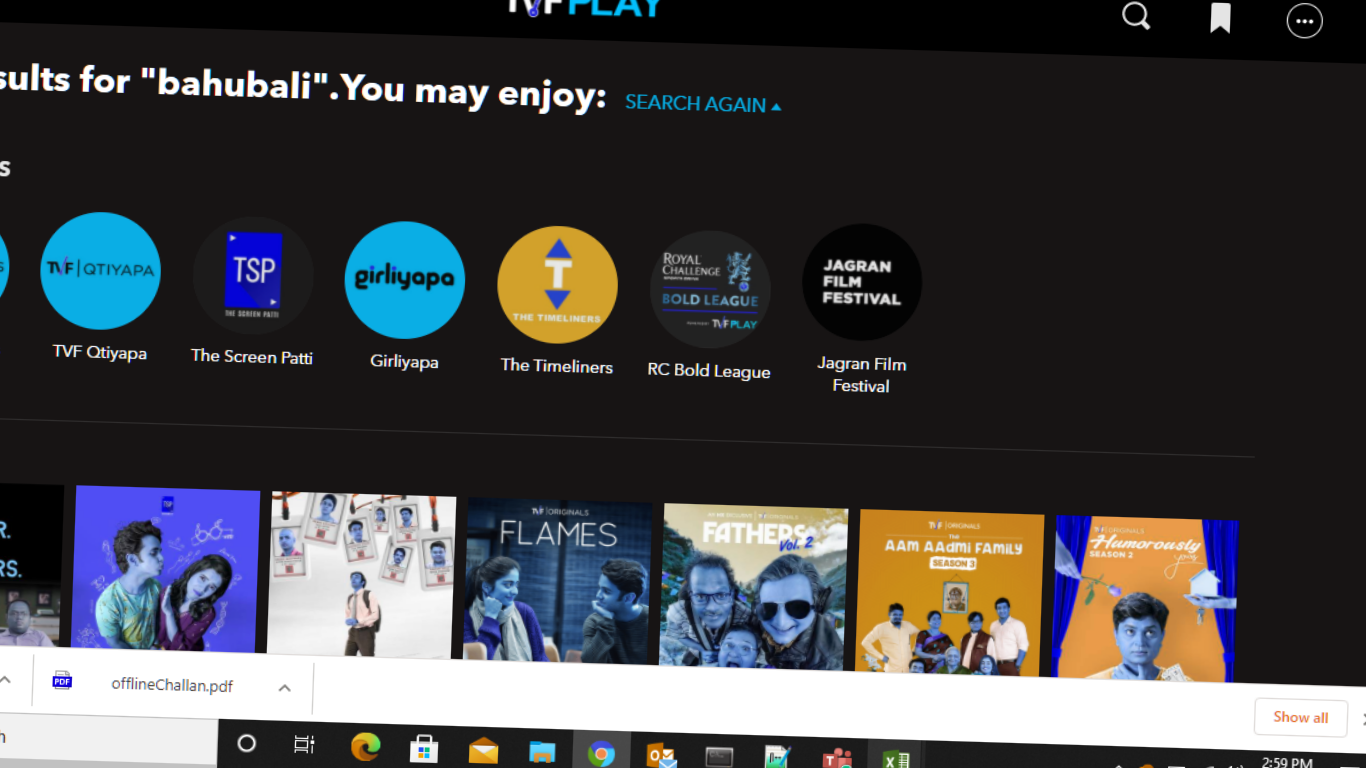profileicon: (1264, 1, 1351, 55)
resultsfound: (1, 42, 793, 153)
searchicon: (1103, 1, 1155, 35)
